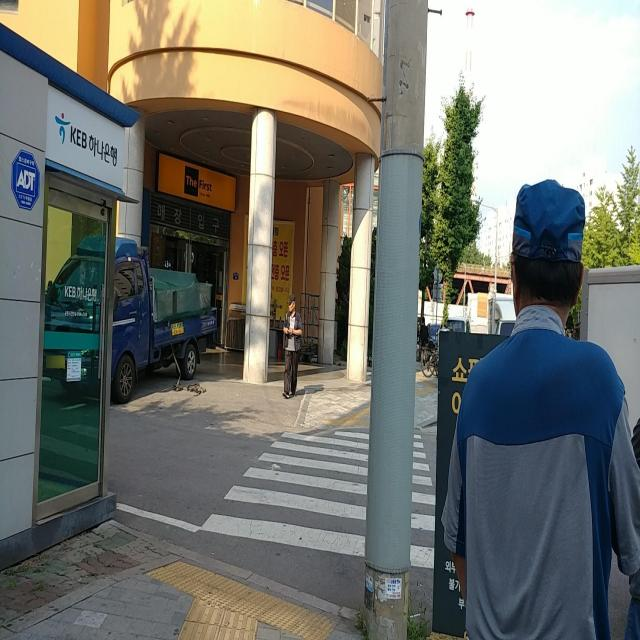횡단보도: (199, 428, 437, 574)
